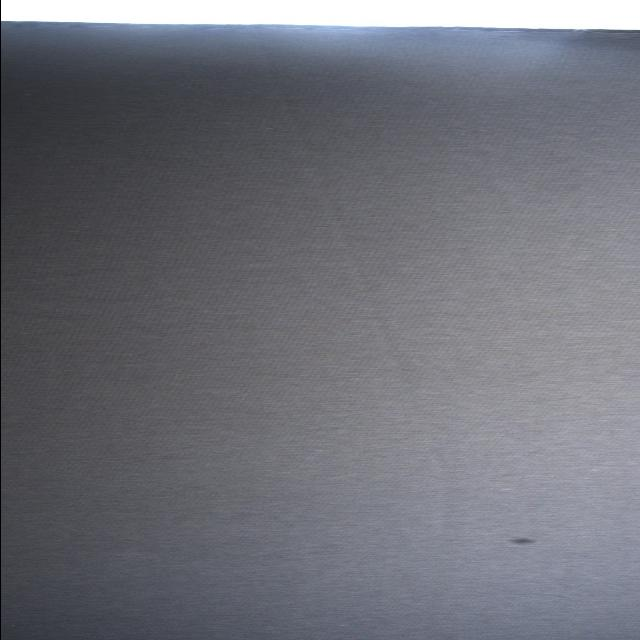crease: (229, 30, 470, 463)
